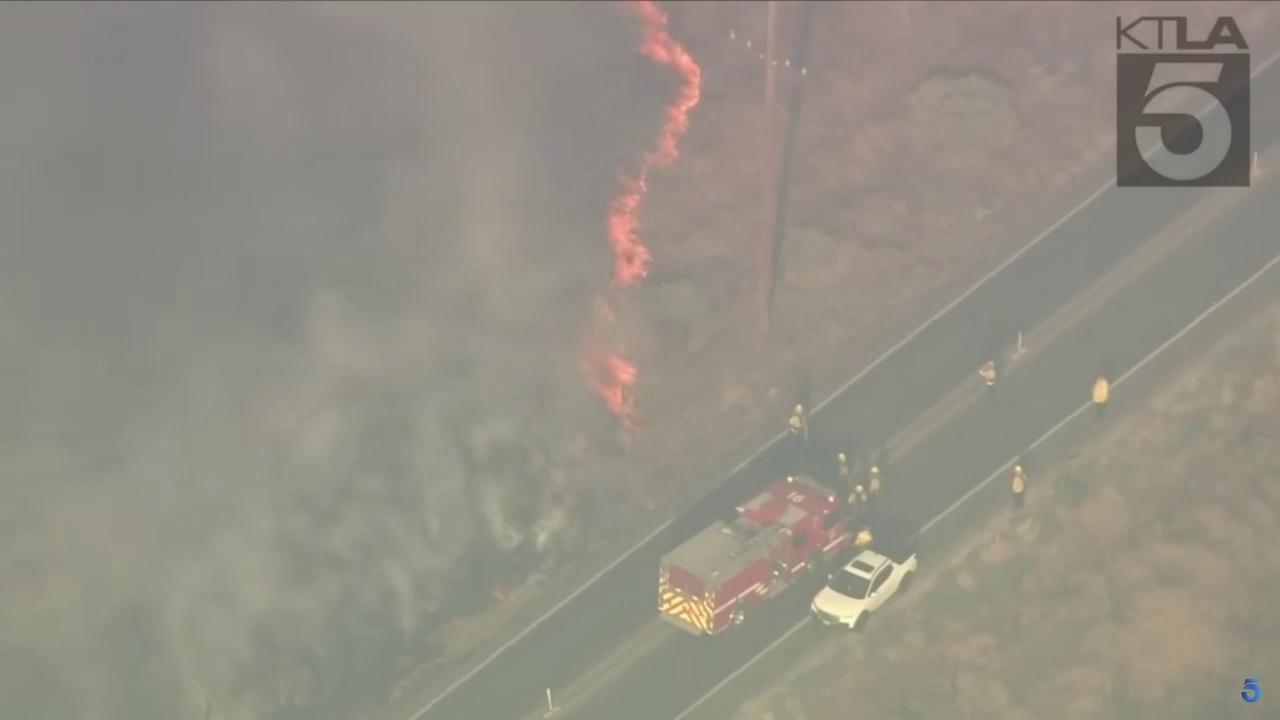fire: (579, 0, 702, 436)
smoke: (0, 0, 686, 720)
